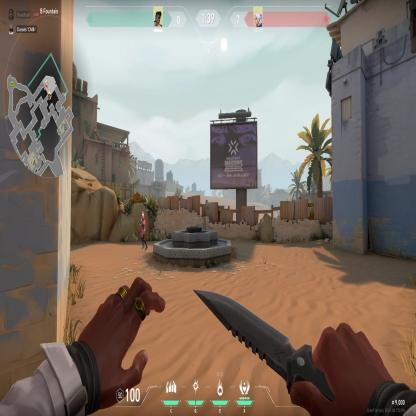enemy: (140, 211, 148, 252)
